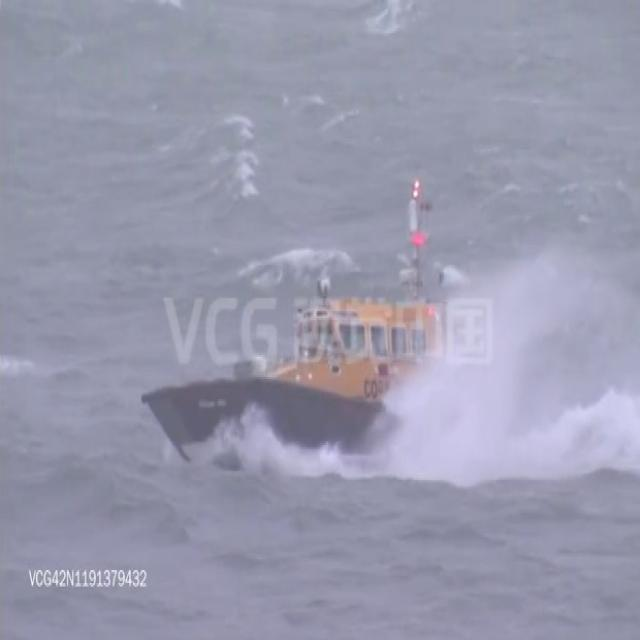houseboat: (139, 214, 505, 479)
